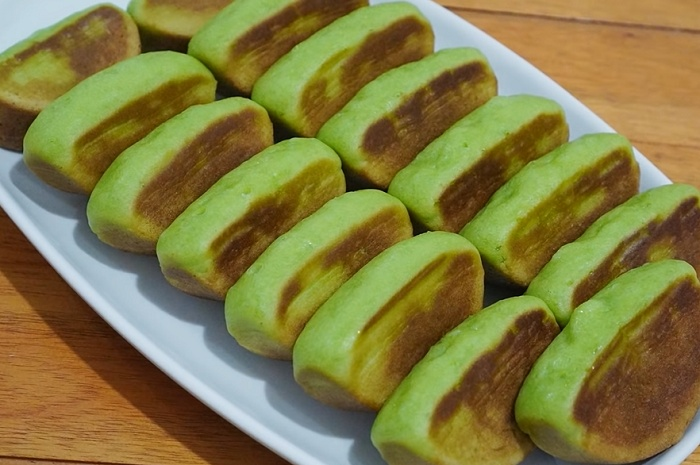pukis: (524, 257, 688, 454)
